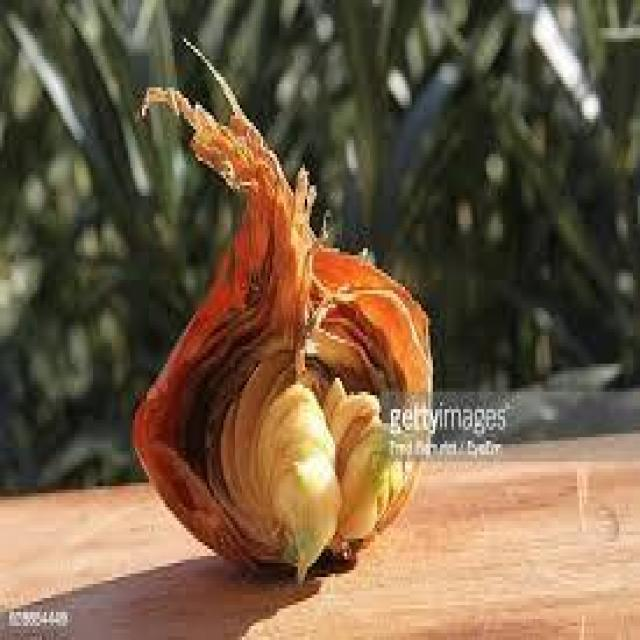Onion: (126, 32, 442, 577)
